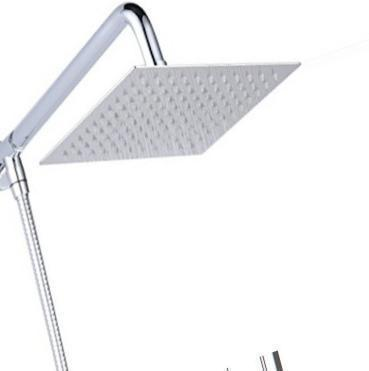Ducha: (0, 13, 300, 370)
